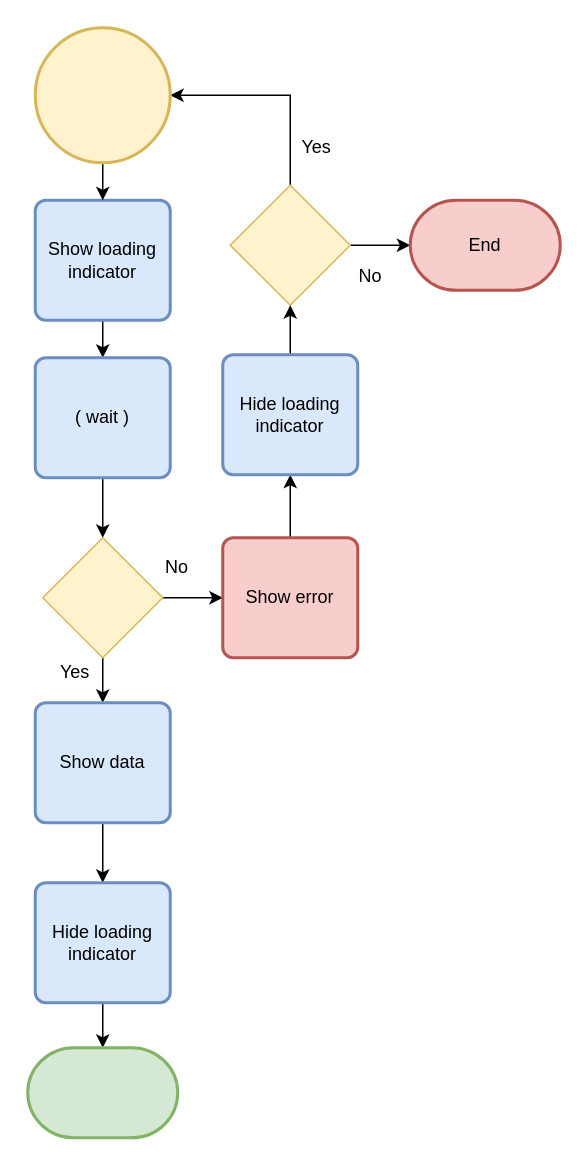
This 587x1164 diagram has some shape labels left out. The shapes that lost their labels are listed below. From the top down, each one's box as (x1, y1, x2, y2) in pixels, then its label:
(33, 26, 171, 164): Start ajax request
(229, 184, 350, 305): Retry?
(41, 536, 163, 658): Success?
(26, 1046, 178, 1138): Continue
